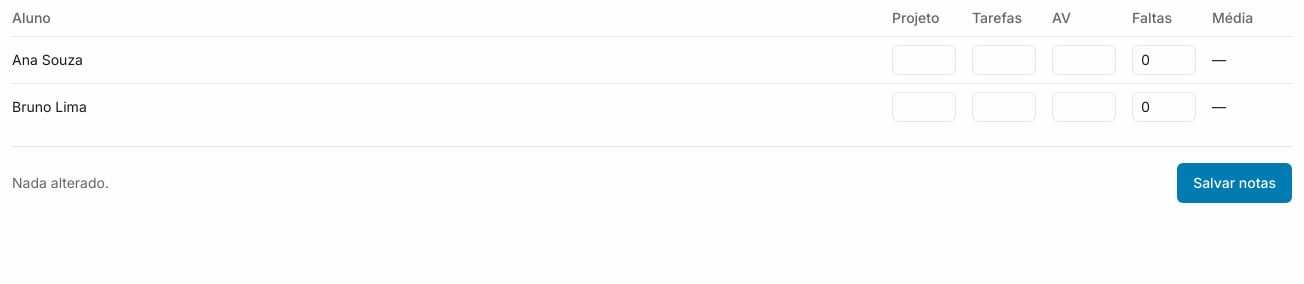
GradeDeNotas › aponta a linha com nota inválida e não envia nada
Type "8" into the field named "Projeto de Ana Souza" at (924, 60), box [892,45,956,75]
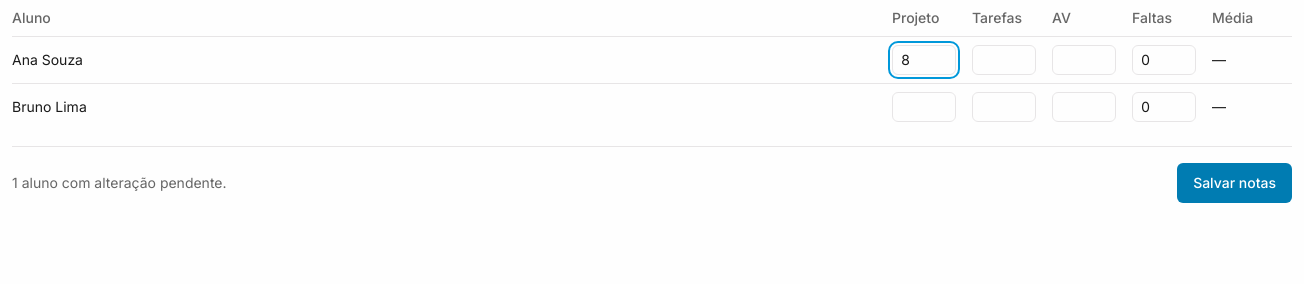
Type "11" into the field named "Projeto de Bruno Lima" at (924, 107), box [892,92,956,122]
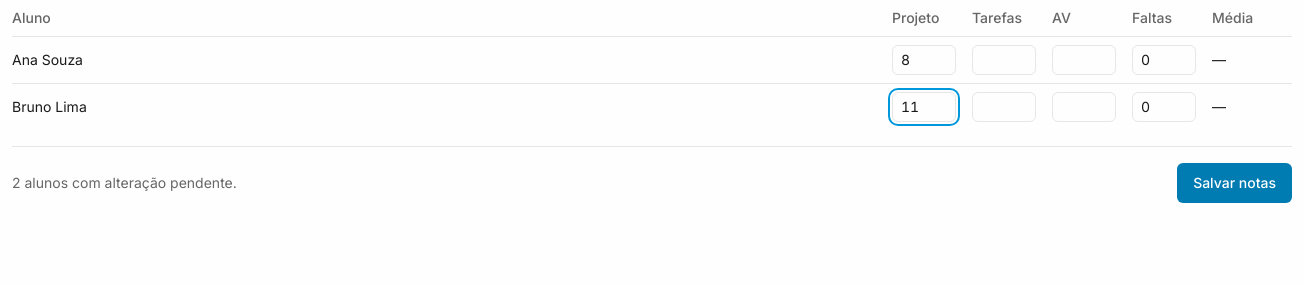
Click the button "Salvar notas" at (1235, 183), box [1177,163,1292,203]
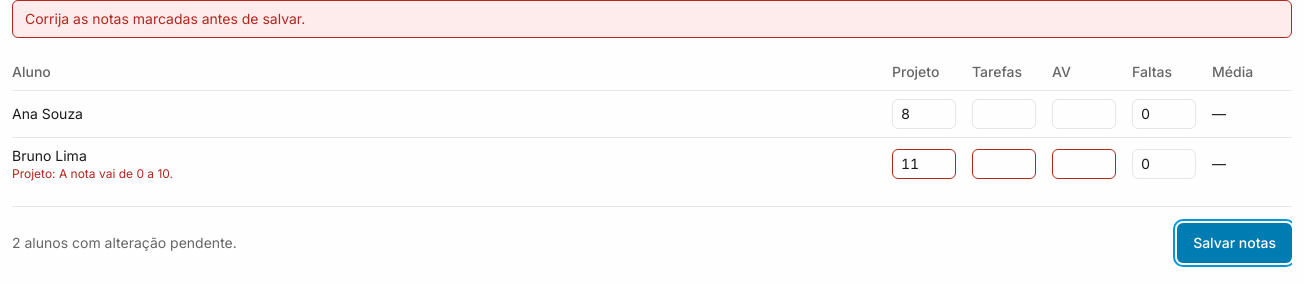
Now the message "Projeto: A nota vai de 0 a 10." is shown, box [12,166,173,181]
